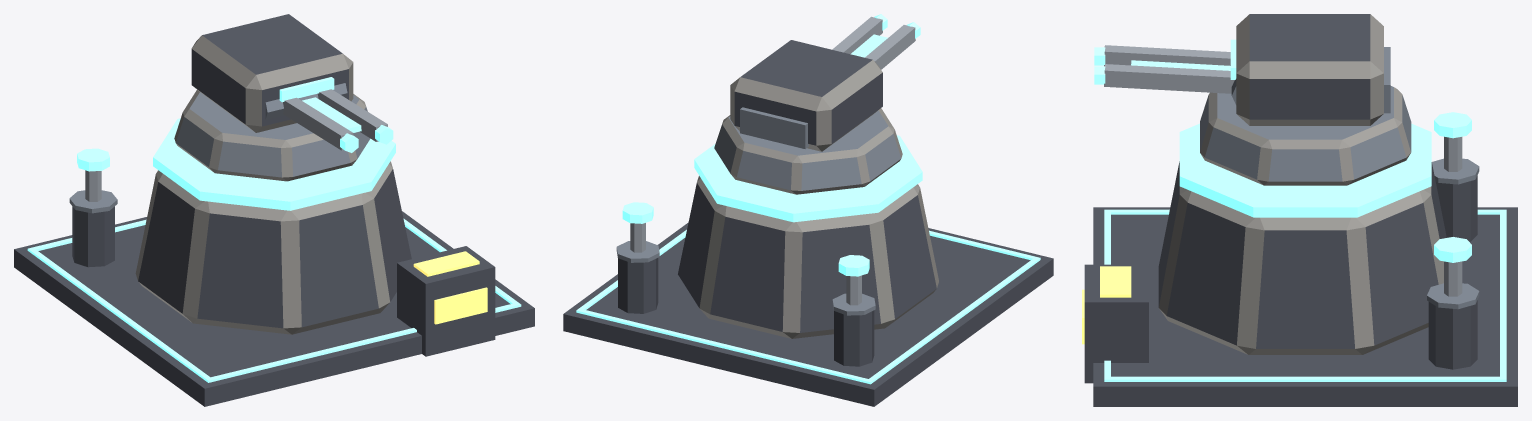
File: torre_defesa_sem_textura.glb
The picture shows the model from 3 angles, left to right: view 1: azimuth 30°, elevation 25°; view 2: azimuth 150°, elevation 25°; view 3: azimuth 270°, elevation 25°; orthographic projection. The views are drawn at different scales.
Visible parts, largest first — view 1: torre_defesa_base, torre_defesa_giro, torre_defesa_canhao, torre_defesa_pistao0; view 2: torre_defesa_base, torre_defesa_giro, torre_defesa_canhao, torre_defesa_pistao0, torre_defesa_pistao1; view 3: torre_defesa_base, torre_defesa_giro, torre_defesa_canhao, torre_defesa_pistao0, torre_defesa_pistao1.
Boxes of the visible parts, x1,y1,x2,y2 form: torre_defesa_base: (14,118,534,406); torre_defesa_giro: (174,14,370,181); torre_defesa_canhao: (265,83,393,152); torre_defesa_pistao0: (77,148,109,201); torre_defesa_base: (563,135,1053,406); torre_defesa_giro: (714,40,902,194); torre_defesa_canhao: (832,14,920,69); torre_defesa_pistao0: (838,255,869,305); torre_defesa_pistao1: (622,202,653,252); torre_defesa_base: (1082,123,1517,406); torre_defesa_giro: (1200,14,1411,185); torre_defesa_canhao: (1094,45,1236,104); torre_defesa_pistao0: (1434,112,1471,171); torre_defesa_pistao1: (1434,237,1471,296).
Bounding box in the file's own units: 1.9 × 1.38 × 1.95.
